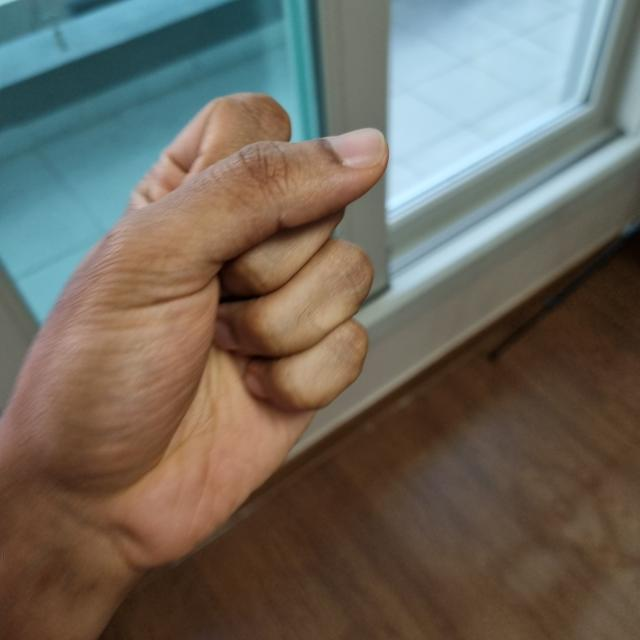Rock: (0, 95, 383, 543)
